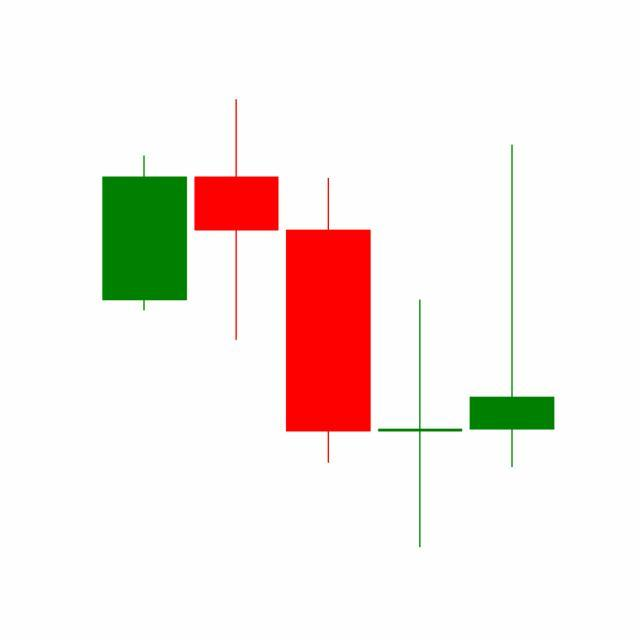Spinning Top: (374, 297, 468, 551)
